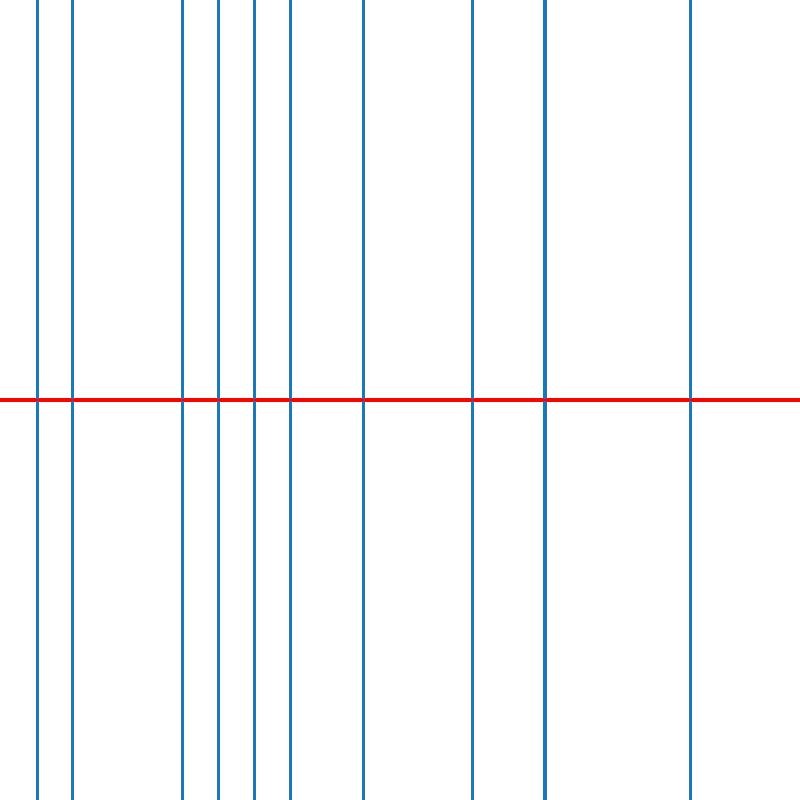root: (250, 396, 258, 404), (541, 396, 549, 404), (32, 396, 40, 404), (69, 396, 76, 404), (687, 396, 694, 404), (214, 396, 221, 404), (287, 396, 294, 404), (178, 396, 185, 404), (360, 396, 367, 404), (469, 396, 476, 404)
